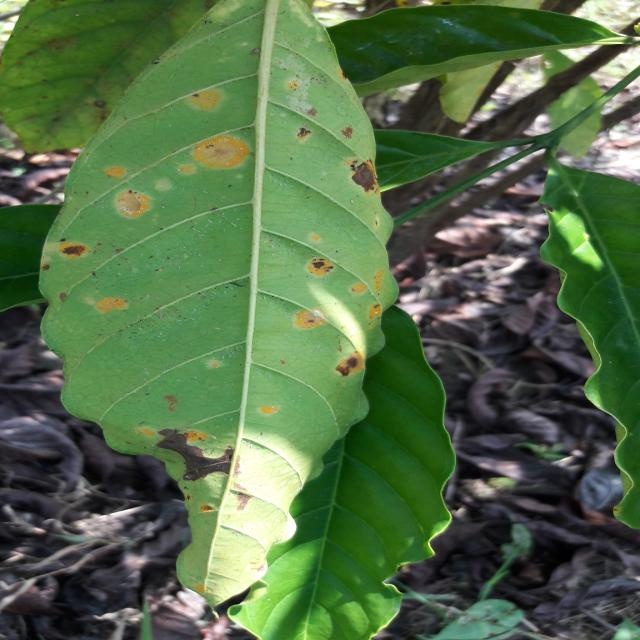Plaga-AranaRoja: (38, 0, 399, 611)
